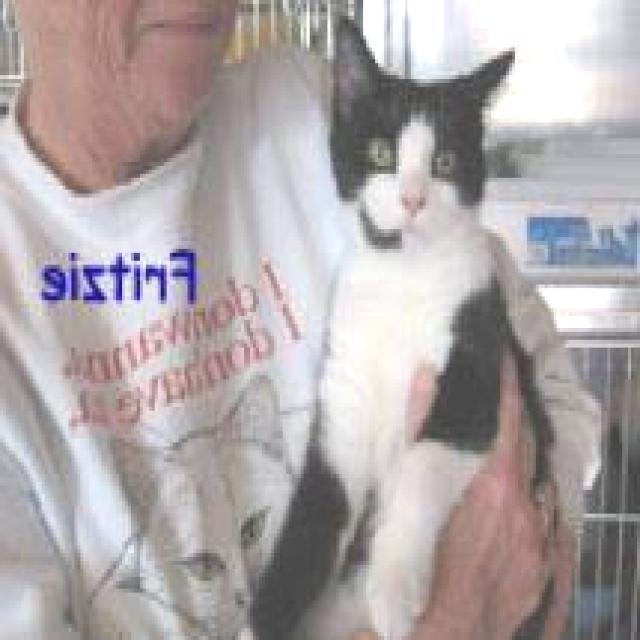Kucing: (282, 37, 554, 548)
